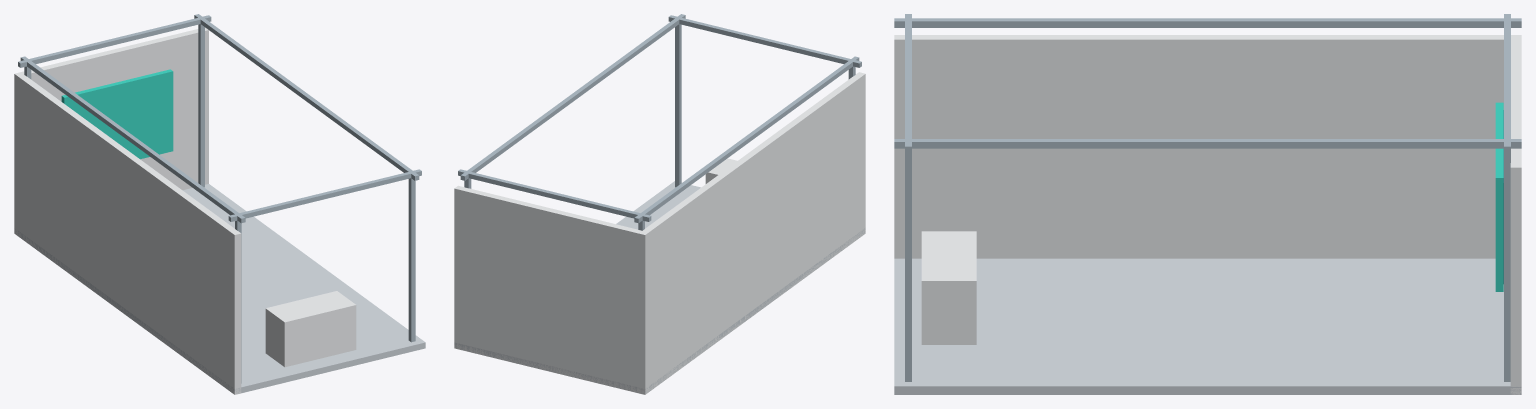
3 views of the same model, side by side, from view 1: azimuth 30°, elevation 25°; view 2: azimuth 150°, elevation 25°; view 3: azimuth 270°, elevation 25° (orthographic). The views are drawn at different scales.
Visible parts, largest first — view 1: Exhibition Booth Concept; view 2: Exhibition Booth Concept; view 3: Exhibition Booth Concept.
Part boxes in pixels (x1=…): Exhibition Booth Concept: x1=14, y1=14, x2=425, y2=394; Exhibition Booth Concept: x1=454, y1=14, x2=865, y2=394; Exhibition Booth Concept: x1=894, y1=14, x2=1521, y2=394.
Bounding box in the file's own units: 4 × 3.49 × 8.
